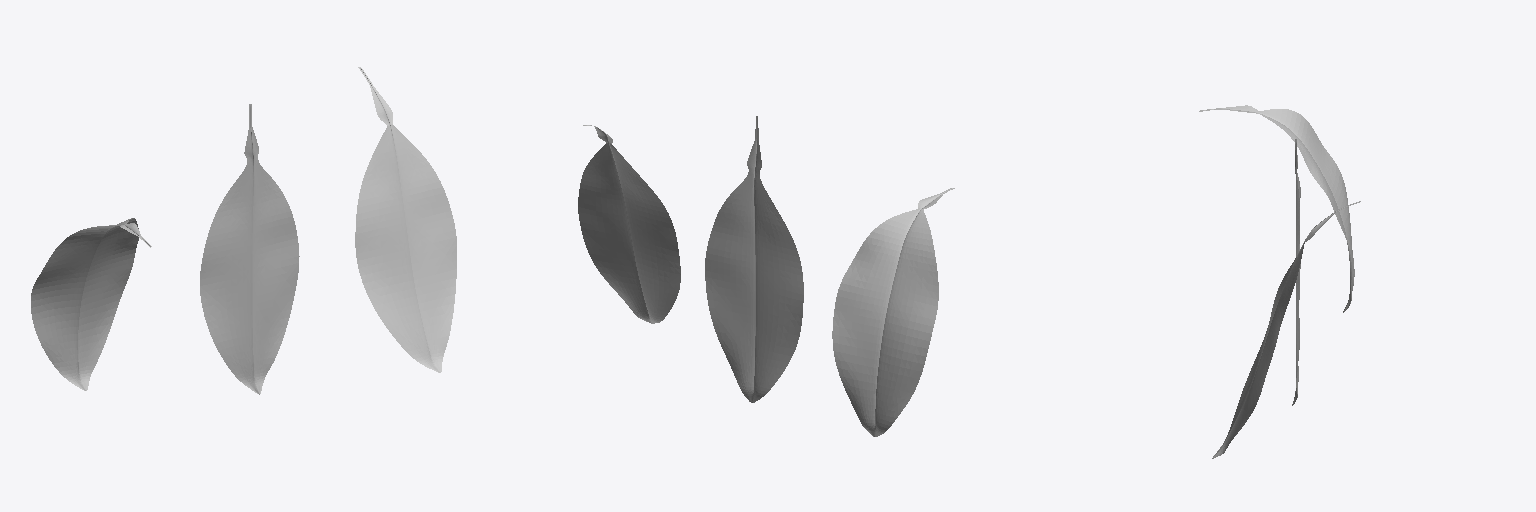
Rendered from LEAF.obj.
3 renders of one model, left to right at view 1: azimuth 30°, elevation 25°; view 2: azimuth 150°, elevation 25°; view 3: azimuth 270°, elevation 25°, orthographic.
Parts seen in each view (by area): view 1: Plane.004_Plane.008; view 2: Plane.004_Plane.008; view 3: Plane.004_Plane.008.
Part boxes in pixels (x1,y1,x2,y2): Plane.004_Plane.008: (31, 67, 456, 394); Plane.004_Plane.008: (578, 116, 954, 436); Plane.004_Plane.008: (1199, 105, 1360, 458).
Bounding box in the file's own units: 1.28 × 0.9156 × 0.462.